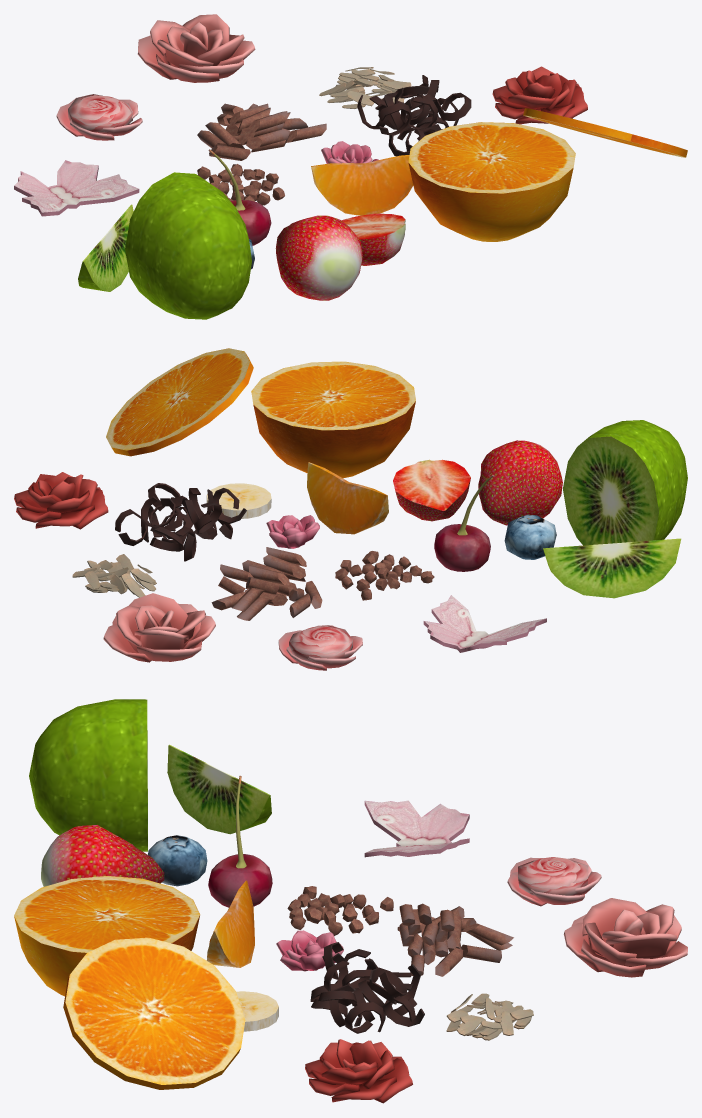
File: set_postres.glb
The picture shows the model from 3 angles, top to bottom: view 1: azimuth 30°, elevation 25°; view 2: azimuth 150°, elevation 25°; view 3: azimuth 270°, elevation 25°; orthographic projection. The views are drawn at different scales.
Visible parts, largest first — view 1: Sphere004, Box005, Box004, Line001_03 - Default_0, object 18, Cylinder307, Helix138, Line004_03 - Default_0, Object018_03 - Default_0, Sphere002_03 - Default_0, object 12, Box003 (+5 smaller); view 2: Sphere004, Box005, object 16, object 12, Box004, Line001_03 - Default_0, Helix138, Cylinder307, Object018_03 - Default_0, object 18, Box003, Line004_03 - Default_0 (+7 smaller); view 3: object 16, Box005, Sphere004, Line001_03 - Default_0, Helix138, object 12, Object018_03 - Default_0, Box004, Cylinder307, Line004_03 - Default_0, Sphere002_03 - Default_0, Sphere008 (+6 smaller).
Part boxes in pixels (x1,y1,x2,y2): Sphere004: (408, 122, 575, 241); Box005: (125, 172, 251, 319); Box004: (275, 215, 362, 300); Line001_03 - Default_0: (137, 14, 255, 82); object 18: (311, 155, 413, 215); Cylinder307: (197, 103, 326, 160); Helix138: (357, 75, 471, 156); Line004_03 - Default_0: (14, 160, 139, 216); Object018_03 - Default_0: (492, 66, 587, 124); Sphere002_03 - Default_0: (56, 94, 142, 140); object 12: (78, 204, 133, 291); Box003: (341, 213, 405, 265); Sphere004: (251, 361, 415, 478); Box005: (563, 420, 687, 545); object 16: (106, 348, 253, 456); object 12: (543, 538, 681, 598); Box004: (478, 440, 562, 525); Line001_03 - Default_0: (103, 593, 215, 662); Helix138: (115, 483, 246, 561); Cylinder307: (211, 547, 322, 620); Object018_03 - Default_0: (14, 472, 108, 529); object 18: (307, 462, 388, 534); Box003: (393, 459, 470, 521); Line004_03 - Default_0: (423, 595, 546, 652); object 16: (63, 937, 245, 1089); Box005: (29, 699, 147, 851); Sphere004: (14, 876, 200, 996); Line001_03 - Default_0: (563, 898, 687, 977); Helix138: (310, 942, 424, 1033); object 12: (167, 744, 271, 834); Object018_03 - Default_0: (305, 1039, 412, 1103); Box004: (41, 825, 164, 886); Cylinder307: (397, 903, 513, 976); Line004_03 - Default_0: (364, 800, 469, 857); Sphere002_03 - Default_0: (507, 857, 601, 906); Sphere008: (208, 775, 272, 907).
Size of the model in its own units: 893 by 197 by 805.
Materials: 3 (3 with a texture image).
